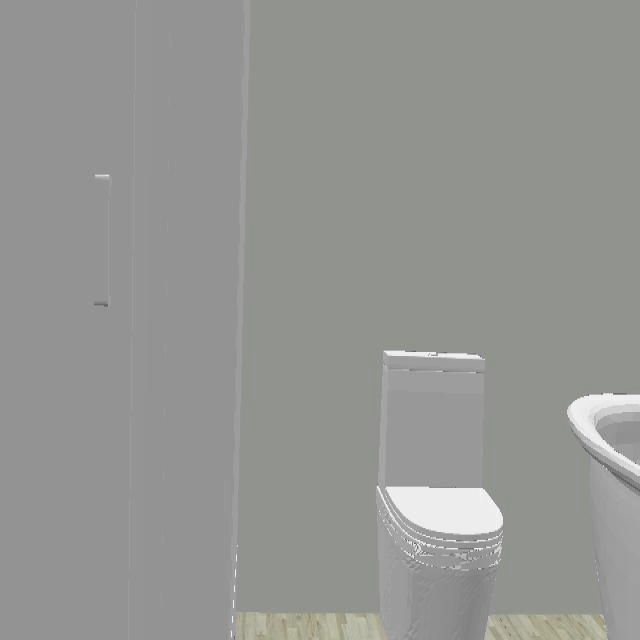bathtube: (566, 393, 640, 640)
toilet: (378, 349, 503, 640)
